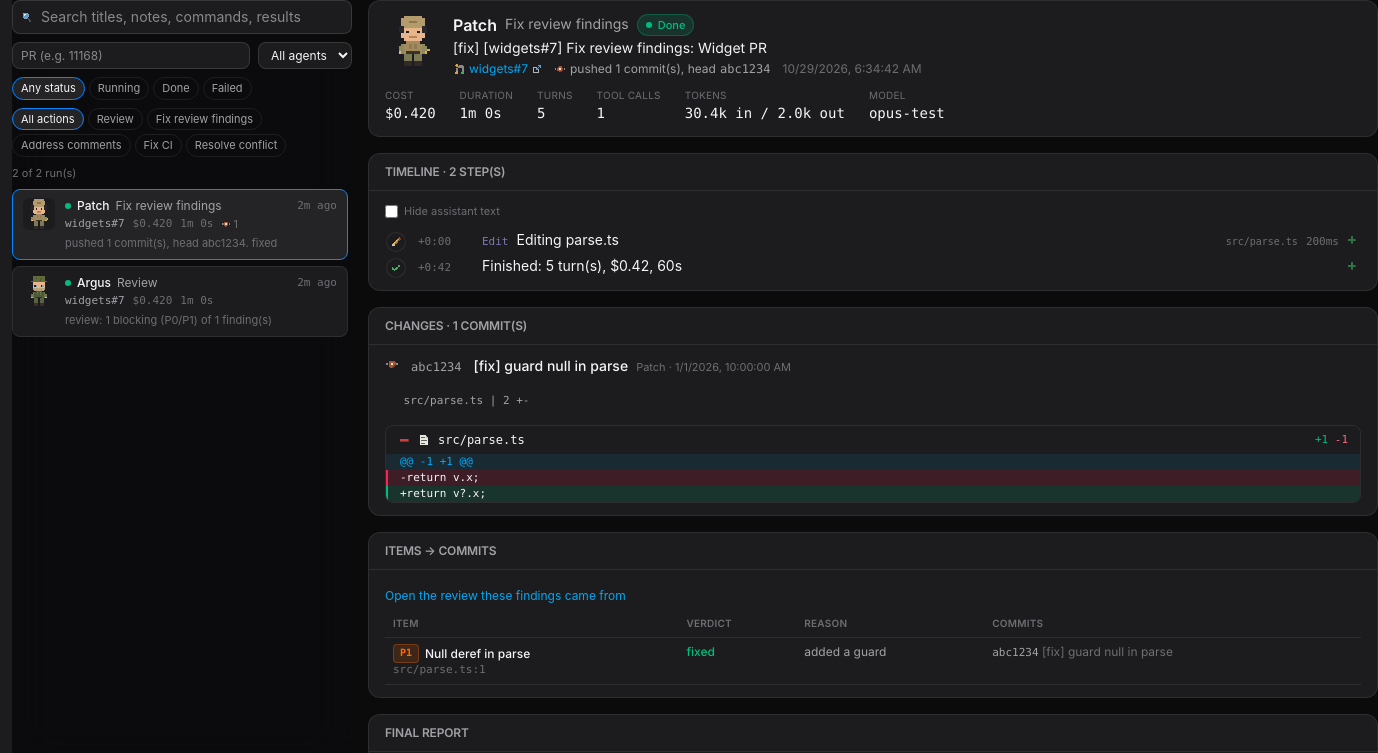
Test: RunInspector › expands a step to show its input and output
This screenshot has width=1378, height=753.
Step 1. Click the text "Editing parse.ts" → [568, 239], box top-left (516, 230), bottom-right (619, 248)
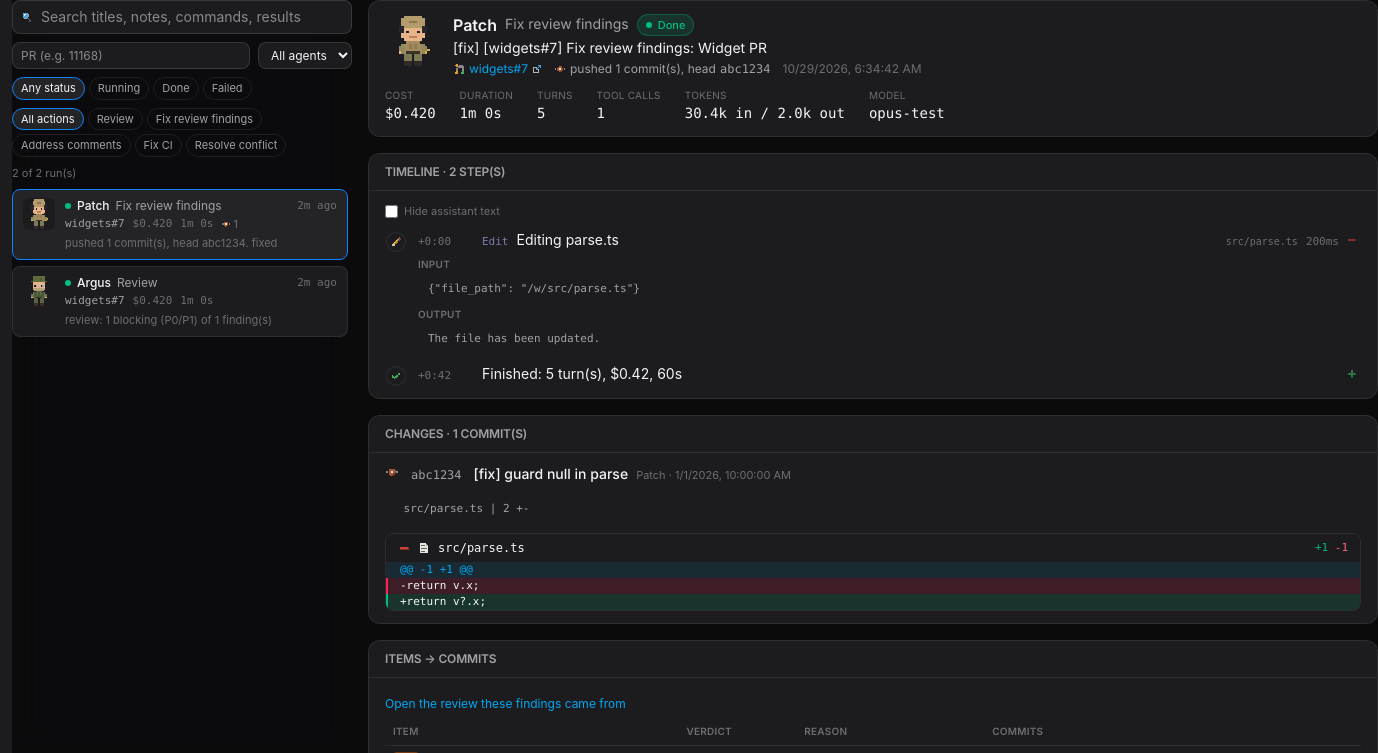
Expected: the text "{\"file_path\": \"/w/src/parse.ts\"}" is shown, top-left (418, 274), bottom-right (1361, 302)
Expected: the text "The file has been updated." is shown, top-left (418, 325), bottom-right (1361, 352)
